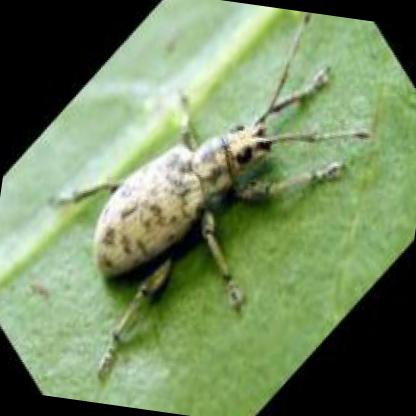ash weevil: (54, 15, 369, 375)
